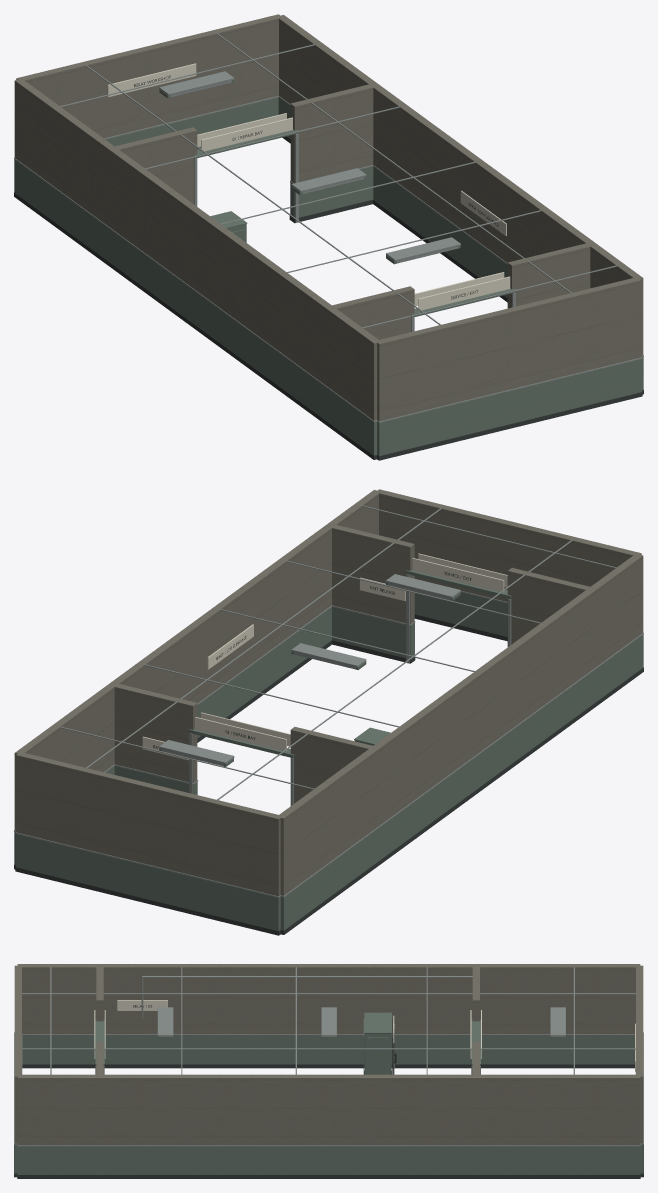
File: bench_workshop.glb
The picture shows the model from 3 angles, top to bottom: view 1: azimuth 30°, elevation 25°; view 2: azimuth 150°, elevation 25°; view 3: azimuth 270°, elevation 25°; orthographic projection. The views are drawn at different scales.
Visible parts, largest first — view 1: bench_workshop / power_plaster, bench_workshop / power_sage_enamel, bench_workshop / power_galvanized, bench_workshop / power_instrument_ivory, bench_workshop / power_blackened_steel; view 2: bench_workshop / power_plaster, bench_workshop / power_sage_enamel, bench_workshop / power_galvanized, bench_workshop / power_instrument_ivory, bench_workshop / power_blackened_steel; view 3: bench_workshop / power_plaster, bench_workshop / power_sage_enamel, bench_workshop / power_galvanized, bench_workshop / power_blackened_steel, bench_workshop / power_instrument_ivory.
Part boxes in pixels (bbox=[...]): bench_workshop / power_plaster: bbox=[14, 14, 643, 421]; bench_workshop / power_sage_enamel: bbox=[14, 80, 643, 455]; bench_workshop / power_galvanized: bbox=[14, 33, 643, 422]; bench_workshop / power_instrument_ivory: bbox=[107, 63, 510, 310]; bench_workshop / power_blackened_steel: bbox=[14, 75, 643, 460]; bench_workshop / power_plaster: bbox=[14, 489, 643, 896]; bench_workshop / power_sage_enamel: bbox=[14, 570, 643, 930]; bench_workshop / power_galvanized: bbox=[14, 505, 643, 897]; bench_workshop / power_instrument_ivory: bbox=[142, 553, 507, 760]; bench_workshop / power_blackened_steel: bbox=[14, 571, 643, 935]; bench_workshop / power_plaster: bbox=[14, 964, 643, 1144]; bench_workshop / power_sage_enamel: bbox=[14, 1012, 643, 1174]; bench_workshop / power_galvanized: bbox=[14, 967, 643, 1145]; bench_workshop / power_blackened_steel: bbox=[14, 1005, 643, 1178]; bench_workshop / power_instrument_ivory: bbox=[94, 1000, 635, 1071].
Size of the model in its own units: 8.26 by 3.41 by 19.26.
Materials: 9 (4 with a texture image).
